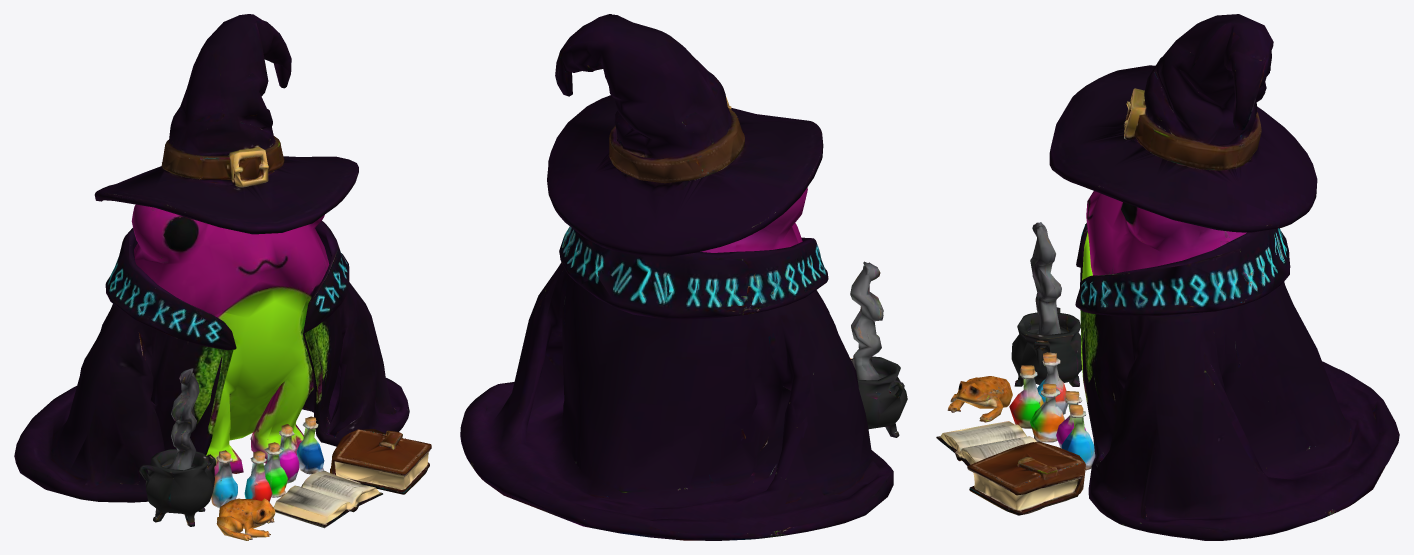
The model's file is alchimiste.glb.
3 renders of one model, left to right at view 1: azimuth 30°, elevation 25°; view 2: azimuth 150°, elevation 25°; view 3: azimuth 270°, elevation 25°, orthographic. The views are drawn at different scales.
Parts seen in each view (by area): view 1: mesh_node; view 2: mesh_node; view 3: mesh_node.
Boxes of the visible parts, <box> form: mesh_node: <box>14,14,431,540</box>; mesh_node: <box>460,14,907,540</box>; mesh_node: <box>936,14,1399,540</box>.
Size of the model in its own units: 1.83 by 1.9 by 1.77.
1 material, 1 textured.
